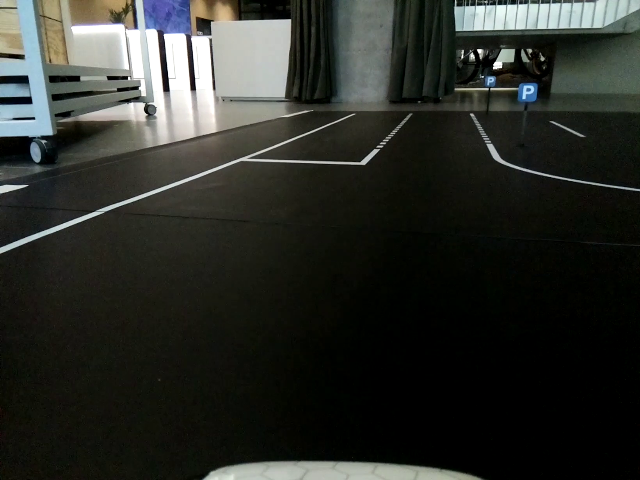park: (517, 84, 538, 102), (486, 75, 496, 86)
